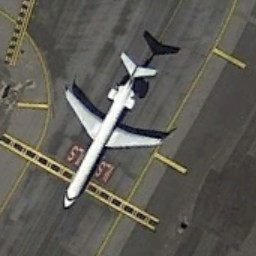Airplane: (56, 43, 172, 222)
